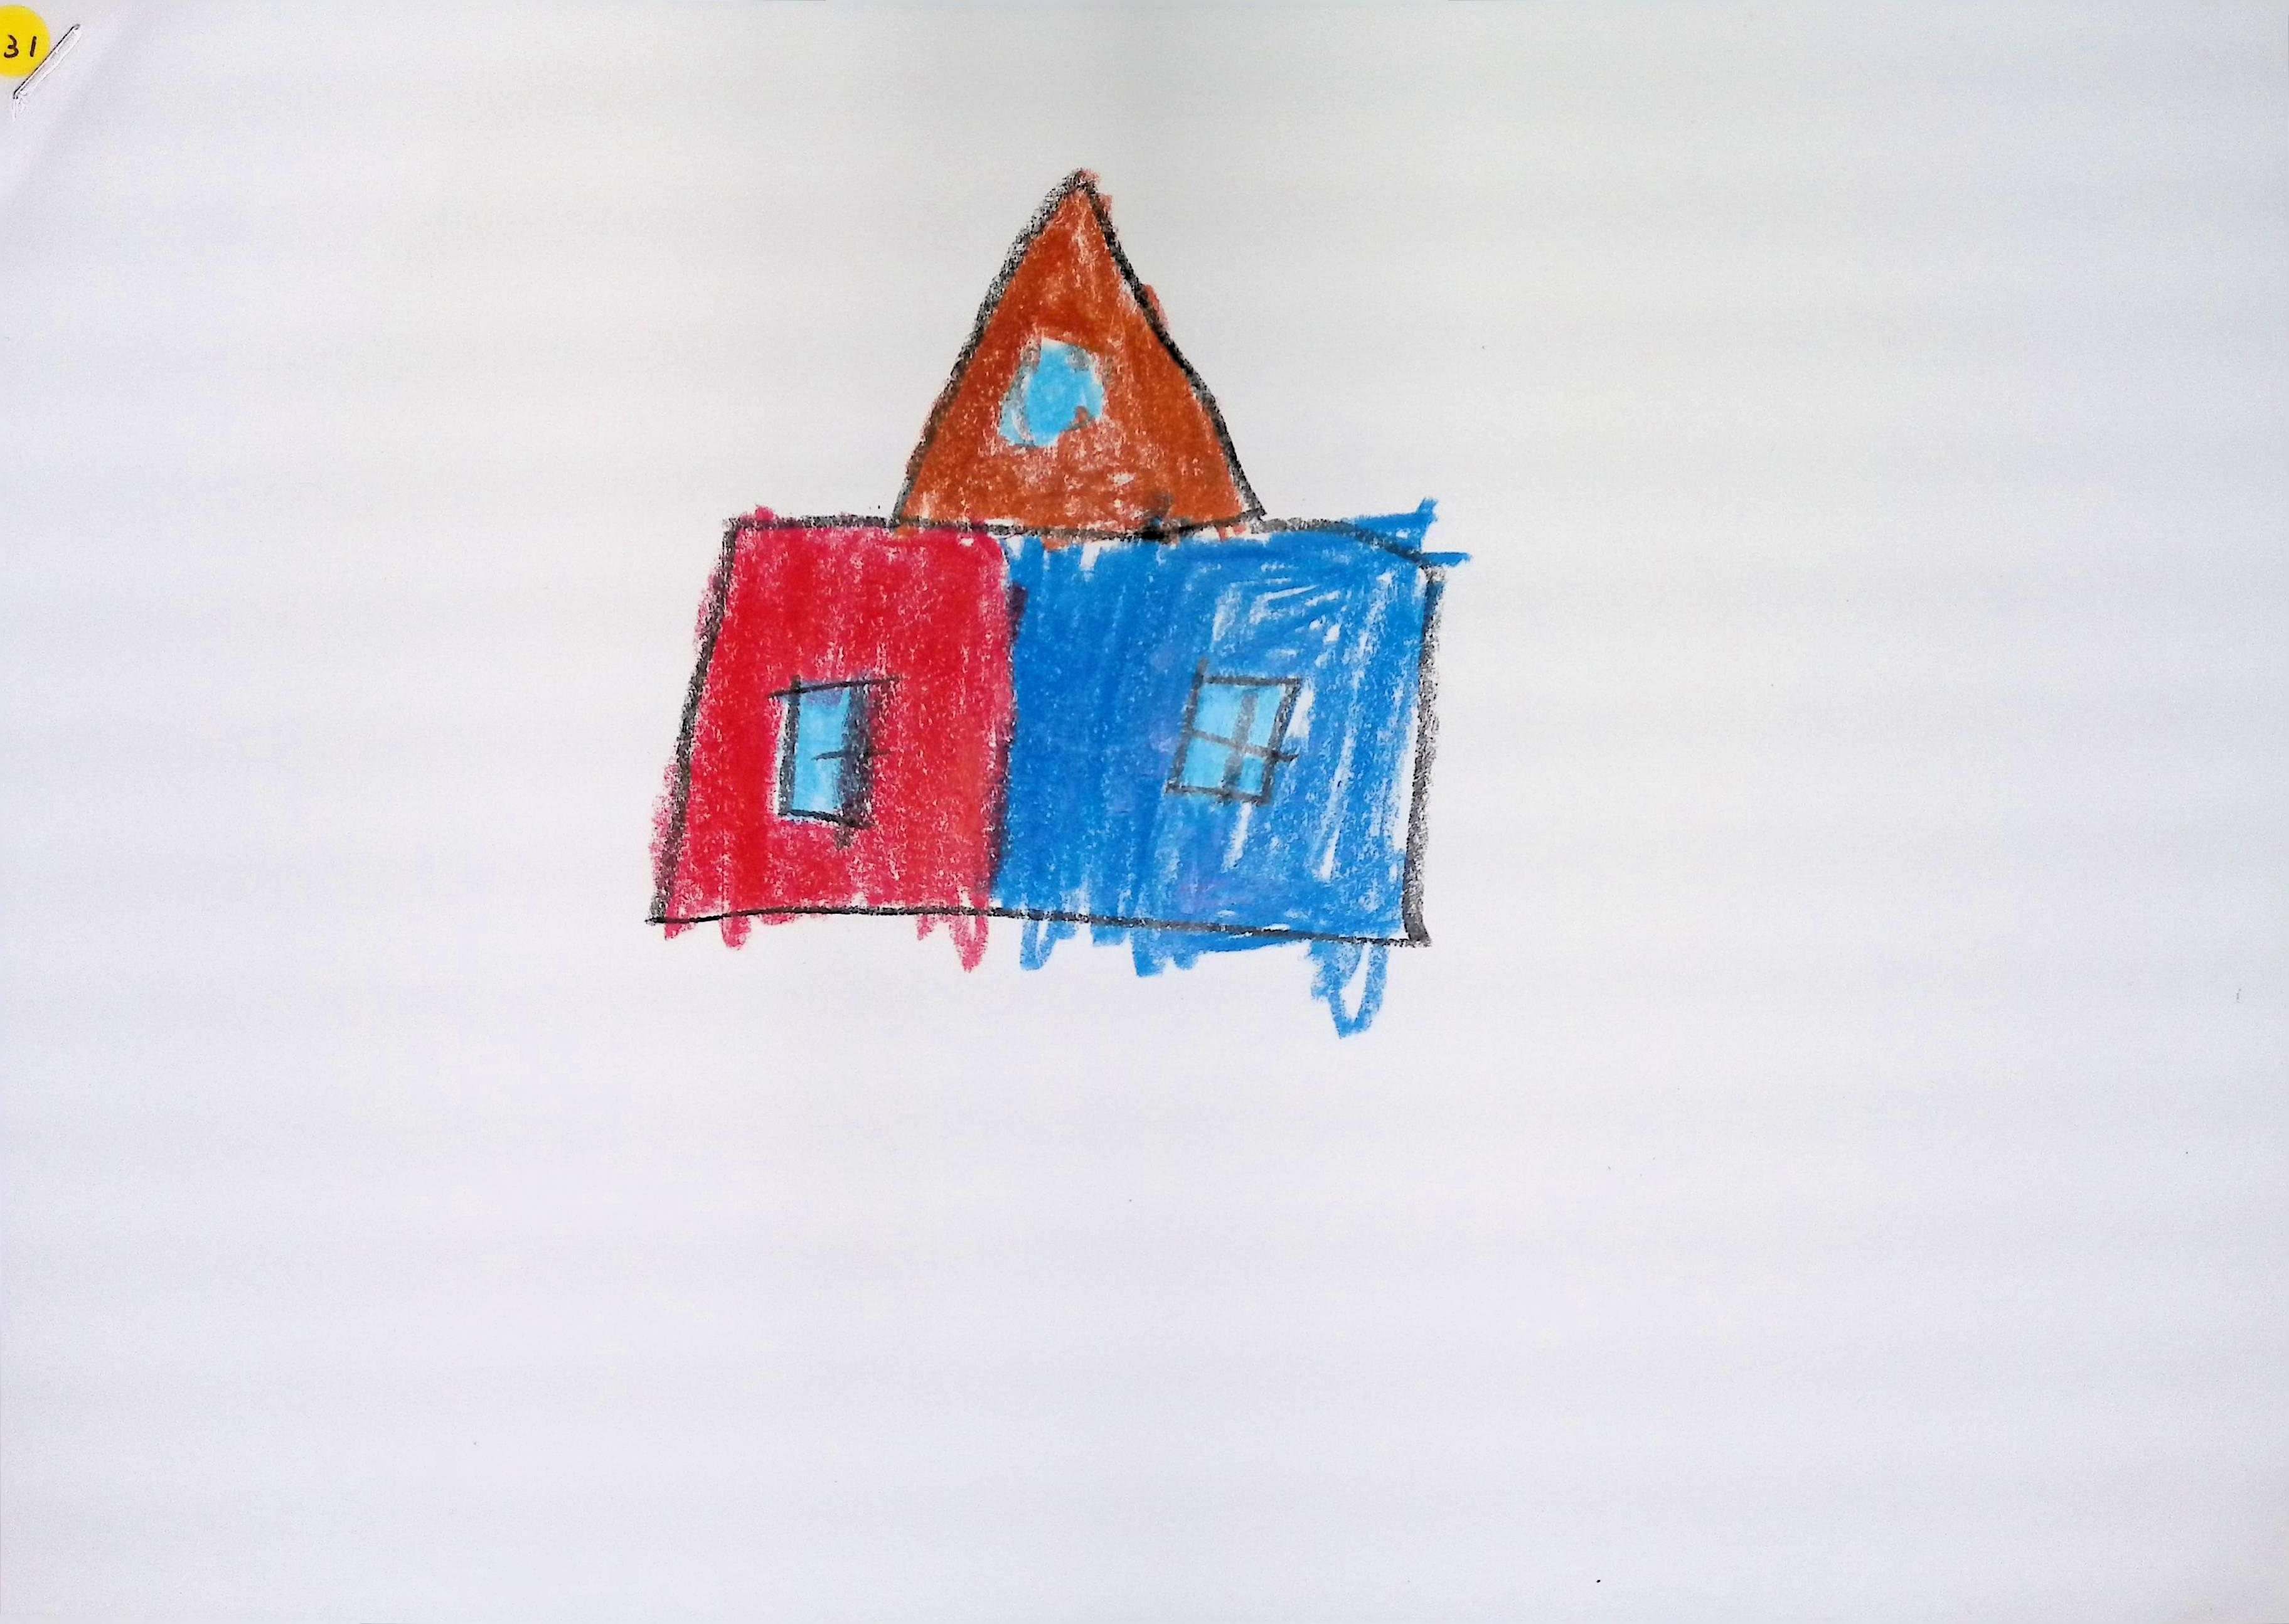house: (652, 162, 1439, 951)
roof: (892, 167, 1274, 538)
wall: (648, 518, 1451, 944)
window: (1168, 659, 1302, 800), (773, 678, 882, 823), (998, 336, 1105, 445)
